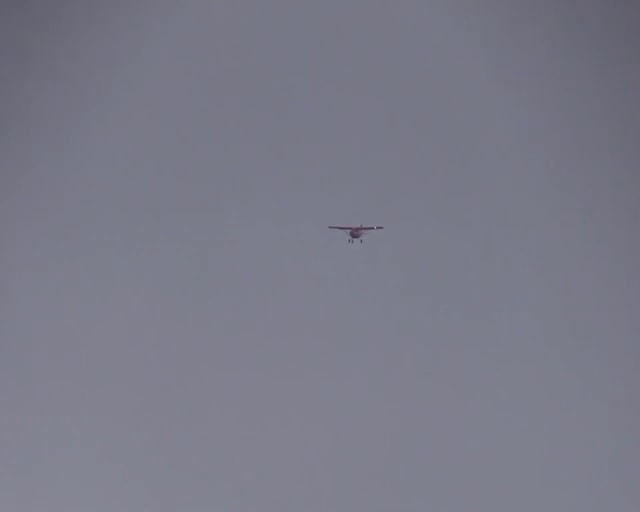AIRPLANE: (327, 222, 384, 244)
